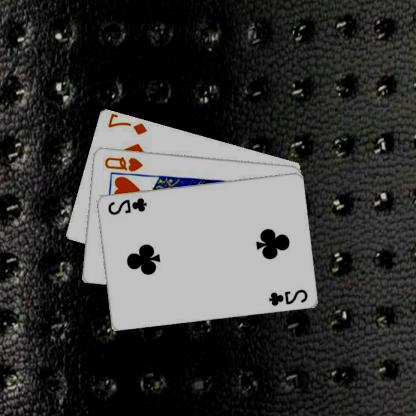2C: (107, 195, 149, 216), (268, 286, 310, 307)
7D: (107, 112, 150, 136)
QH: (103, 154, 146, 173)
